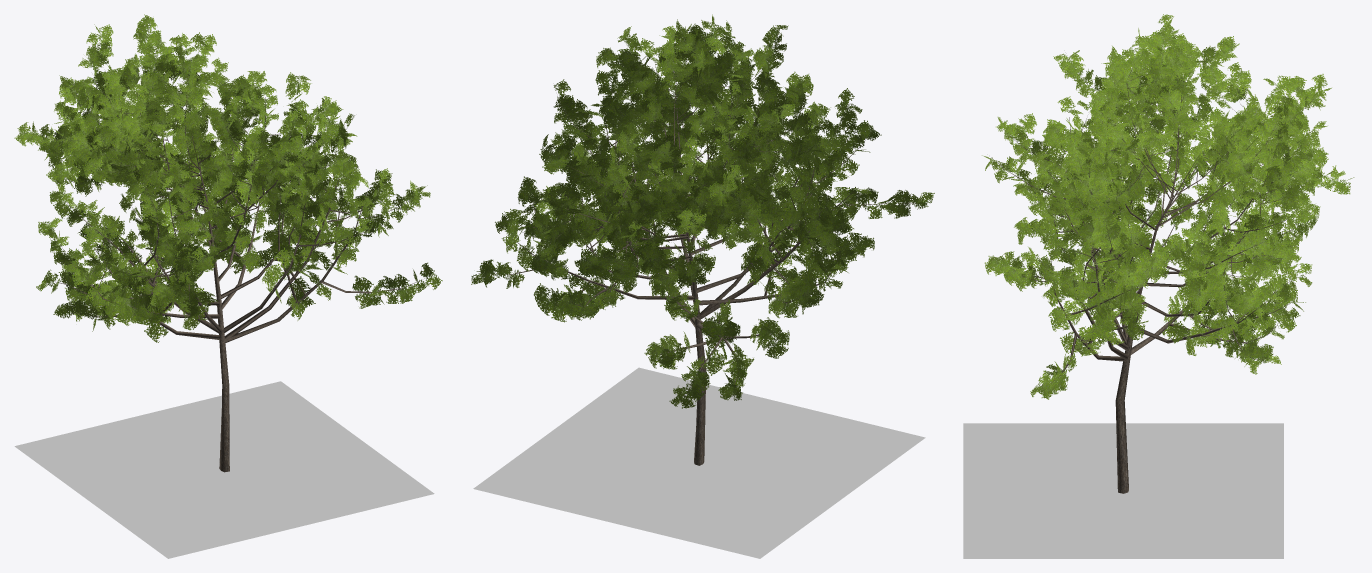
File: tree1.obj
3 renders of one model, left to right at view 1: azimuth 30°, elevation 25°; view 2: azimuth 150°, elevation 25°; view 3: azimuth 270°, elevation 25°, orthographic. The views are drawn at different scales.
Parts seen in each view (by area): view 1: tree1, Plane; view 2: tree1, Plane; view 3: tree1, Plane.
Part boxes in pixels (<box>): tree1: <box>14,14,442,472</box>; Plane: <box>14,381,434,558</box>; tree1: <box>471,14,934,465</box>; Plane: <box>473,367,925,558</box>; tree1: <box>982,14,1354,493</box>; Plane: <box>963,423,1283,558</box>.
Size of the model in its own units: 16.05 by 18.84 by 14.8.
